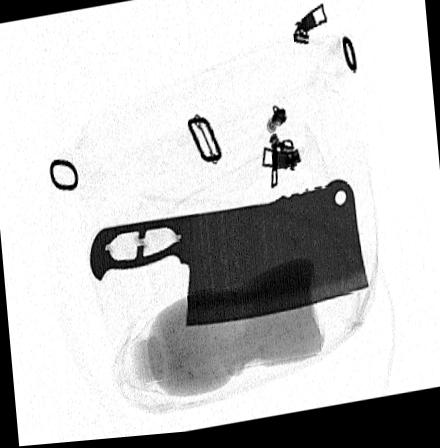Knife: (88, 184, 368, 330)
